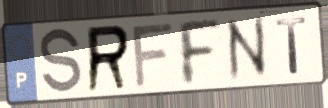F: (174, 18, 224, 88), (130, 20, 177, 91)
N: (223, 13, 272, 85)
R: (85, 22, 132, 96)
S: (38, 26, 84, 98)
T: (273, 14, 310, 76)
